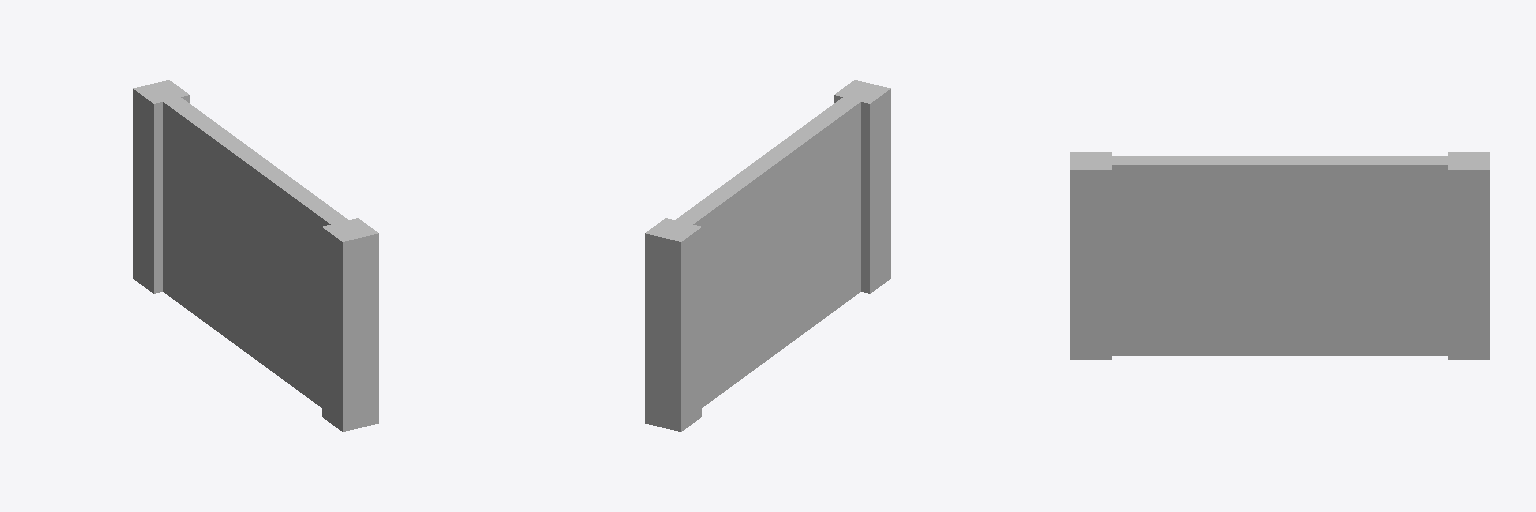
Rendered from wall-half.obj.
3 renders of one model, left to right at view 1: azimuth 30°, elevation 25°; view 2: azimuth 150°, elevation 25°; view 3: azimuth 270°, elevation 25°, orthographic.
Parts seen in each view (by area): view 1: wall-half; view 2: wall-half; view 3: wall-half.
Boxes of the visible parts, x1,y1,x2,y2 form: wall-half: [133, 80, 378, 431]; wall-half: [645, 80, 890, 431]; wall-half: [1070, 152, 1489, 359].
Bounding box in the file's own units: 0.1 × 0.5 × 1.